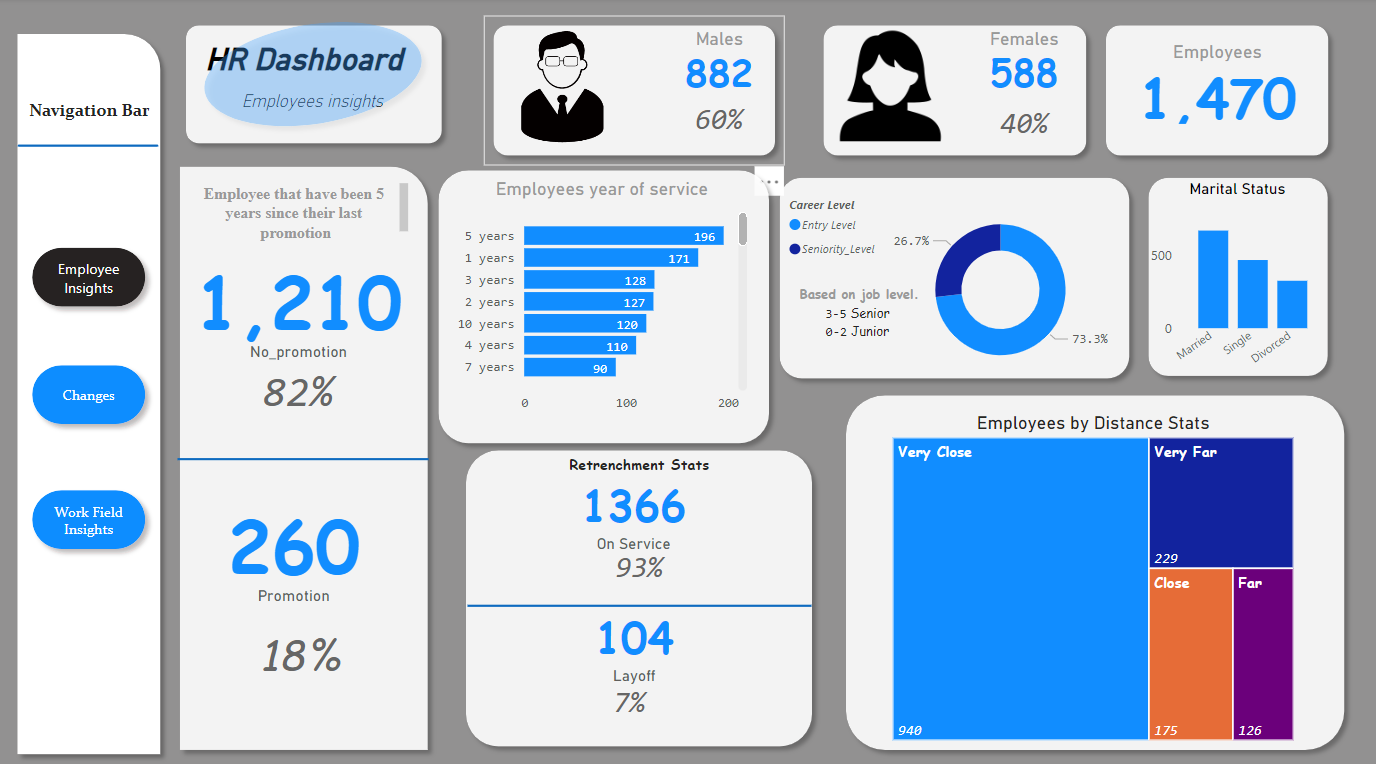

What the dashboard file says about the page in this screenshot:
{"tool":"powerbi","page":{"name":"Employee Insights ","canvas":[1280,720],"ordinal":0},"visuals":[{"type":"shape","box":[7,24.4,151.2,688.4],"z":0},{"type":"shape","box":[164,16.3,255.8,127.9],"z":1000},{"type":"shape","box":[450,16.3,280.2,139.5],"z":2000},{"type":"shape","box":[757,16.3,262.8,139.5],"z":3000},{"type":"shape","box":[1019.8,16.3,224.4,139.5],"z":4000},{"type":"shape","box":[158.1,147.7,248.8,560.5],"z":5000},{"type":"shape","box":[398.8,151.2,325.6,272.1],"z":6000},{"type":"shape","box":[425,411.2,340,293.8],"z":7000},{"type":"shape","box":[716.3,158.1,343,204.7],"z":8000},{"type":"shape","box":[777.9,360.5,481.4,347.7],"z":9000},{"type":"textbox","box":[186,34.9,219.8,54.7],"z":10000},{"type":"textbox","box":[219.8,80.2,161.6,39.5],"z":11000},{"type":"shape","box":[88.4,0,405.8,141.9],"z":12000},{"type":"card","title":"Employees ","fields":{"Values":["measures (2).total_emp"]},"box":[1043,39.5,179.1,82.6],"z":13000},{"type":"card","title":"Females","fields":{"Values":["measures (2).Female"]},"box":[901.2,27.9,103.5,61.6],"z":14000},{"type":"card","title":"Females","fields":{"Values":["measures (2).female_prec"]},"box":[901.2,90.7,103.5,51.2],"z":15000},{"type":"card","title":"Females","fields":{"Values":["measures (2).male_prec"]},"box":[617.4,87.2,102.3,51.2],"z":16000},{"type":"card","title":"Males","fields":{"Values":["measures (2).males"]},"box":[617.4,27.9,103.5,62.8],"z":17000},{"type":"image","box":[459.3,24.4,131.4,116.3],"z":18000},{"type":"image","box":[764,22.1,123.3,116.3],"z":19000},{"type":"textbox","box":[173,167.2,211.6,67.4],"z":20000},{"type":"card","fields":{"Values":["measures (2).Needs_Promotion"]},"box":[173,419.3,200,190.7],"z":21000},{"type":"card","fields":{"Values":["measures (2).No_need_for_promotion"]},"box":[172,191.7,211.6,191.9],"z":22000},{"type":"card","fields":{"Values":["measures (2).%needs_promotion"]},"box":[219.5,564.7,119.8,90.7],"z":23000},{"type":"card","fields":{"Values":["measures (2).%no_needs_promotion"]},"box":[213.9,313.8,126.7,98.8],"z":24000},{"type":"shape","box":[165.1,419.8,233.7,18.6],"z":25000},{"type":"donutChart","fields":{"Category":["HR Analytics Data.Career Level"],"Y":["CountNonNull(HR Analytics Data.Career Level)"]},"box":[729.1,180.2,314,182.6],"z":26000},{"type":"barChart","title":"Employees year of service ","fields":{"Category":["HR Analytics Data.year_of_service"],"Y":["measures (2).Employees"]},"box":[419.8,167.4,280.2,225.6],"z":27000},{"type":"textbox","box":[730.2,260.5,138.4,89.5],"z":28000},{"type":"card","title":"Females","fields":{"Values":["measures (2).On Service"]},"box":[455,437.5,270,85],"z":29000},{"type":"card","title":"Females","fields":{"Values":["measures (2).Layoff"]},"box":[450,555,280,96.2],"z":30000},{"type":"shape","box":[434.4,556.7,320,16.7],"z":31000},{"type":"textbox","box":[506.2,420,177.5,35],"z":32000},{"type":"card","title":"Females","fields":{"Values":["measures (2).%layoff"]},"box":[533.8,630,103.8,50],"z":33000},{"type":"card","title":"Females","fields":{"Values":["measures (2).%on service"]},"box":[542.5,503.8,103.8,51.2],"z":34000},{"type":"treemap","fields":{"Group":["HR Analytics Data.Distance Stats"],"Values":["measures (2).Employees"]},"box":[825.6,384.9,382.6,310.5],"z":35000},{"type":"shape","box":[1059,158,185,202],"z":36000},{"type":"columnChart","title":"Marital Status","fields":{"Category":["HR Analytics Data.MaritalStatus"],"Y":["measures (2).Employees"]},"box":[1065.1,168.6,172.1,182.6],"z":37000},{"type":"pageNavigator","box":[20.9,448.8,123.3,73.3],"z":38000},{"type":"pageNavigator","box":[20.9,332.6,123.3,73.3],"z":39000},{"type":"pageNavigator","box":[20.9,223.3,123.3,73.3],"z":40000},{"type":"textbox","box":[17.4,89.5,131.4,31.4],"z":41000},{"type":"shape","box":[16.3,132.6,131.4,9.3],"z":42000}]}

Visuals, with their boxes in screenshot pixels (x1, y1, x2, y2), scaled from the page's 1280x720 canvas onto the 1376x764 screenshot:
shape: BBox(8, 26, 170, 756)
shape: BBox(176, 17, 451, 153)
shape: BBox(484, 17, 785, 165)
shape: BBox(814, 17, 1096, 165)
shape: BBox(1096, 17, 1338, 165)
shape: BBox(170, 157, 437, 751)
shape: BBox(429, 160, 779, 449)
shape: BBox(457, 436, 822, 748)
shape: BBox(770, 168, 1139, 385)
shape: BBox(836, 383, 1354, 751)
textbox: BBox(200, 37, 436, 95)
textbox: BBox(236, 85, 410, 127)
shape: BBox(95, 0, 531, 151)
"Employees " card: BBox(1121, 42, 1314, 130)
"Females" card: BBox(969, 30, 1080, 95)
"Females" card: BBox(969, 96, 1080, 151)
"Females" card: BBox(664, 93, 774, 147)
"Males" card: BBox(664, 30, 775, 96)
image: BBox(494, 26, 635, 149)
image: BBox(821, 23, 954, 147)
textbox: BBox(186, 177, 413, 249)
card - measures (2).Needs_Promotion: BBox(186, 445, 401, 647)
card - measures (2).No_need_for_promotion: BBox(185, 203, 412, 407)
card - measures (2).%needs_promotion: BBox(236, 599, 365, 695)
card - measures (2).%no_needs_promotion: BBox(230, 333, 366, 438)
shape: BBox(177, 445, 429, 465)
donutChart - HR Analytics Data.Career Level x CountNonNull(HR Analytics Data.Career Level): BBox(784, 191, 1121, 385)
"Employees year of service " barChart: BBox(451, 178, 752, 417)
textbox: BBox(785, 276, 934, 371)
"Females" card: BBox(489, 464, 779, 554)
"Females" card: BBox(484, 589, 785, 691)
shape: BBox(467, 591, 811, 608)
textbox: BBox(544, 446, 735, 483)
"Females" card: BBox(574, 668, 685, 722)
"Females" card: BBox(583, 535, 695, 589)
treemap - HR Analytics Data.Distance Stats x measures (2).Employees: BBox(888, 408, 1299, 738)
shape: BBox(1138, 168, 1337, 382)
"Marital Status" columnChart: BBox(1145, 179, 1330, 373)
pageNavigator: BBox(22, 476, 155, 554)
pageNavigator: BBox(22, 353, 155, 431)
pageNavigator: BBox(22, 237, 155, 315)
textbox: BBox(19, 95, 160, 128)
shape: BBox(18, 141, 159, 151)
